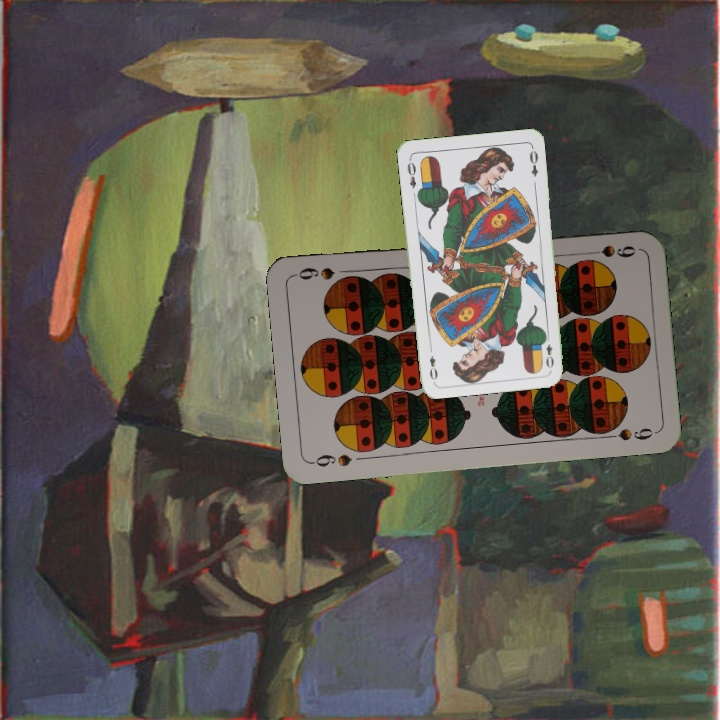EO: (539, 331, 556, 370), (403, 155, 419, 191)
S9: (580, 241, 637, 260), (307, 450, 354, 470)
